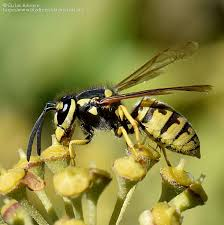chax: (23, 42, 217, 173)
